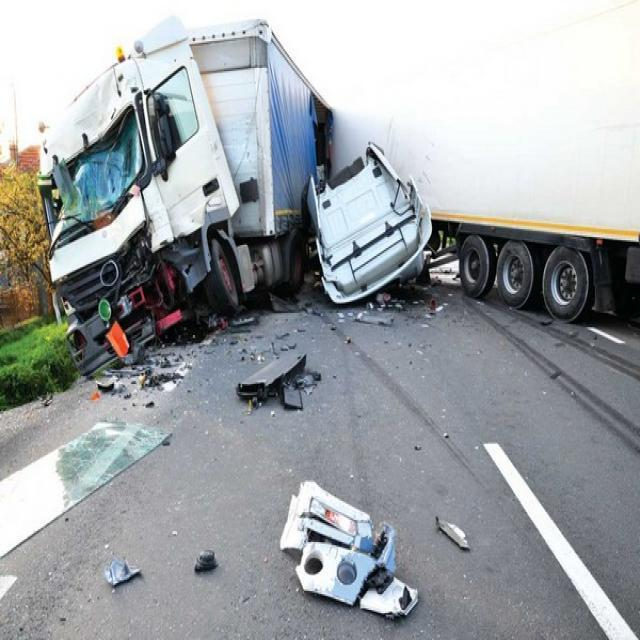accident: (35, 0, 640, 414)
